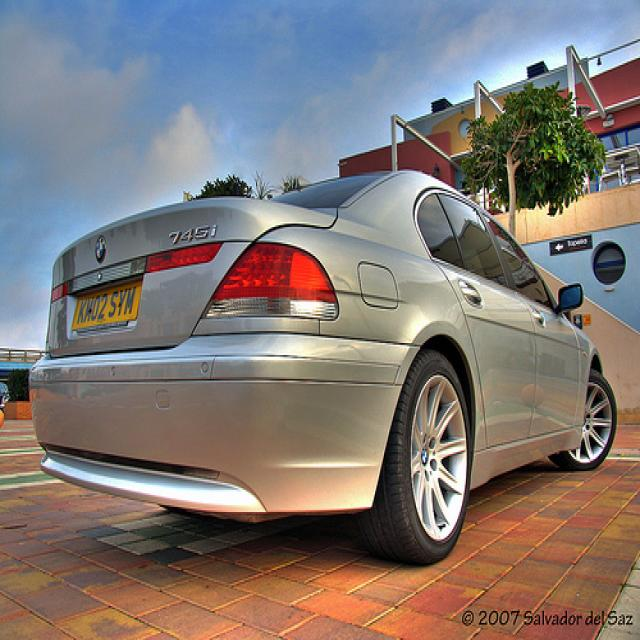Car: (26, 167, 616, 563)
